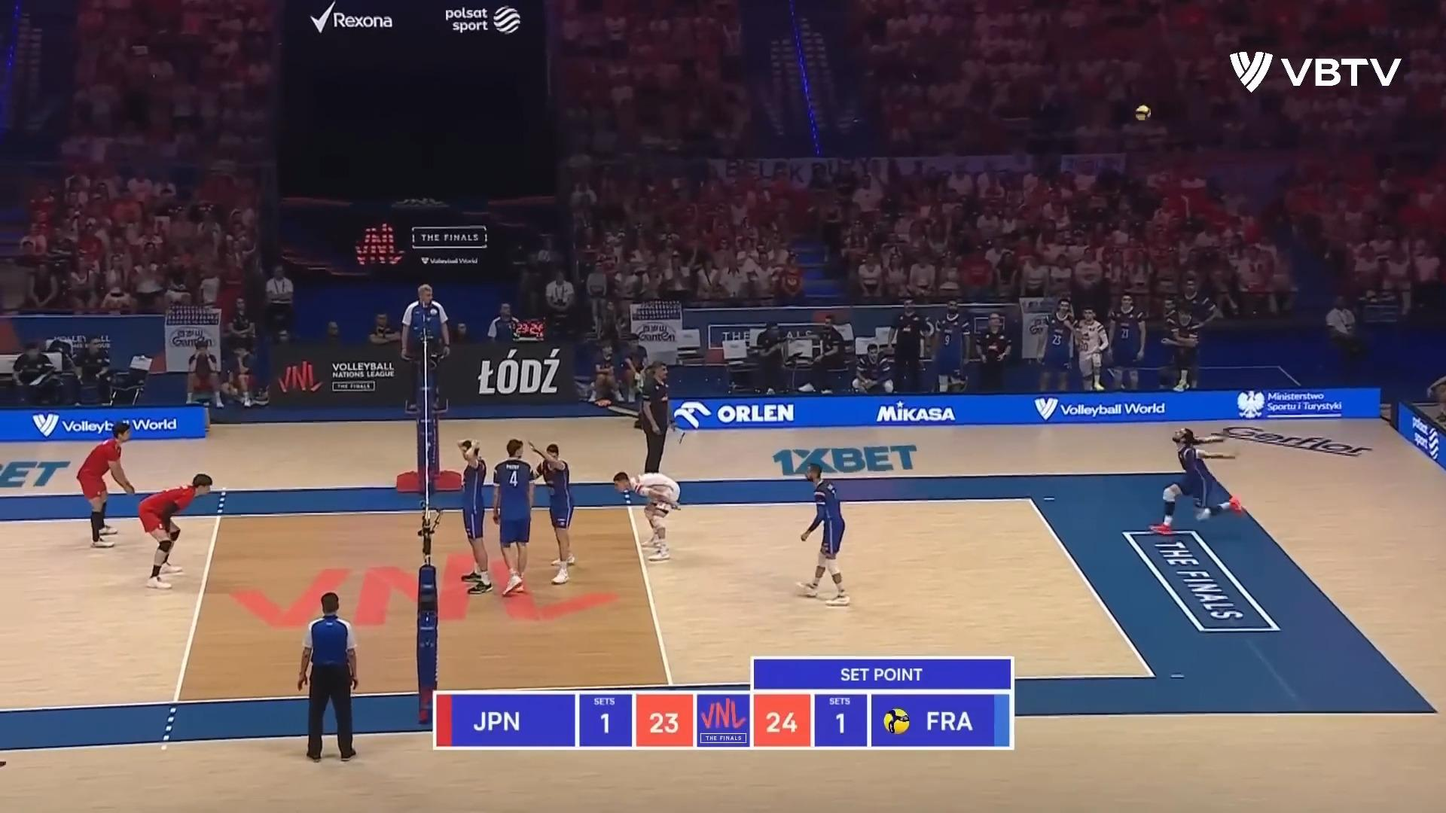ball: (1134, 104, 1152, 121)
